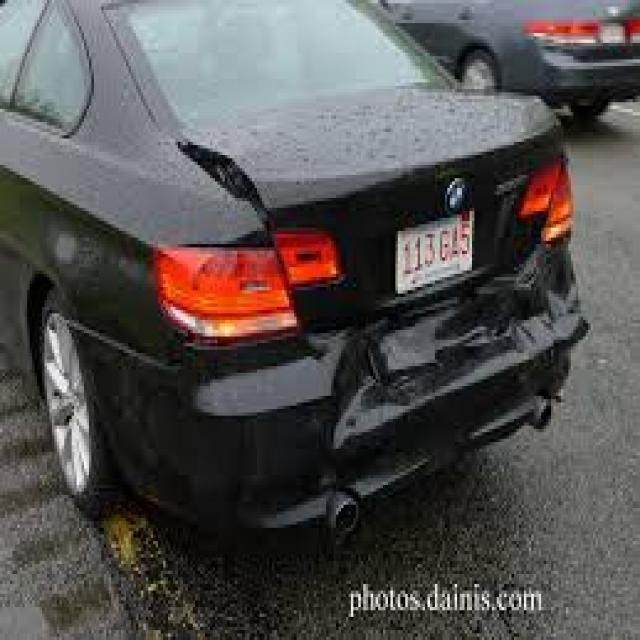damaged-trunk: (197, 80, 550, 318)
